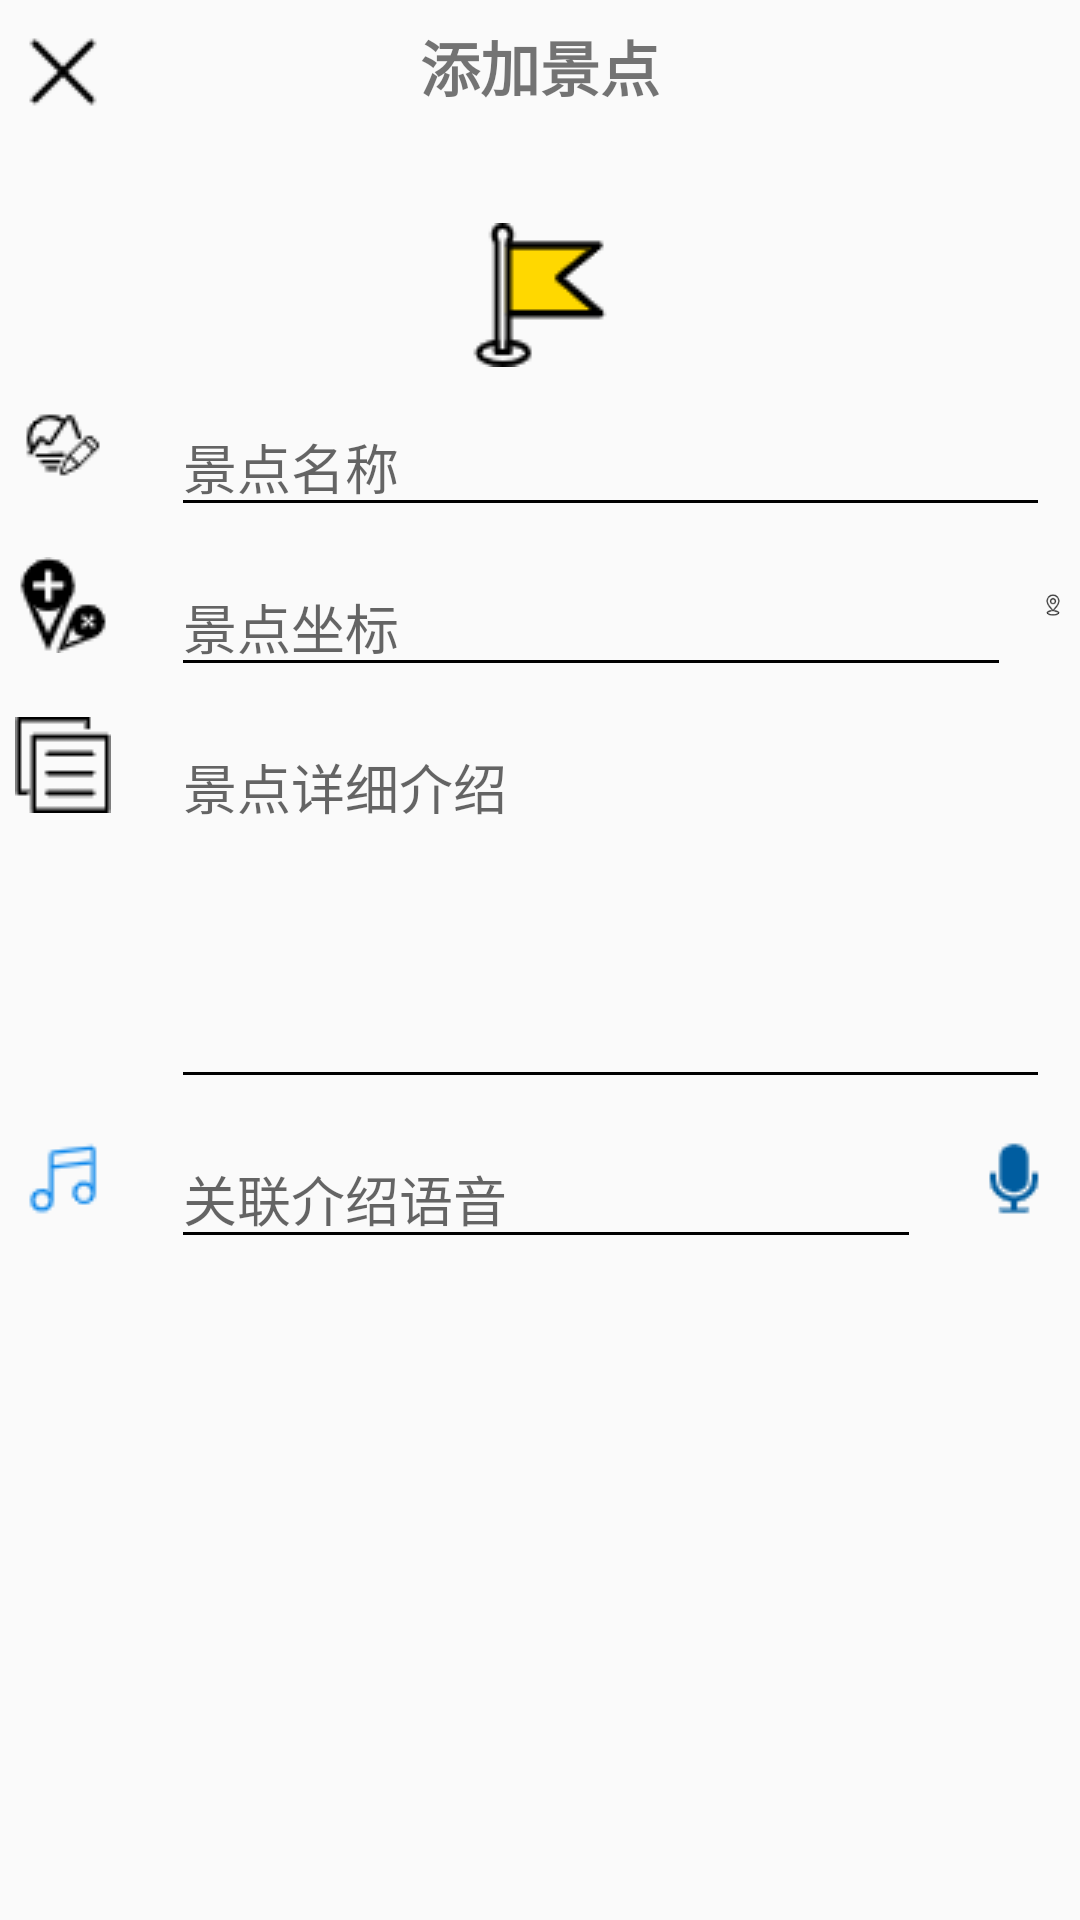

Named icons in this screenshot (1080×1920) and their centers, [x,y]:
back: [63,72]
music: [63,1179]
sight coordinate: [63,605]
sight introduce: [63,765]
sight name: [63,445]
spot: [539,295]
voice: [1014,1178]
